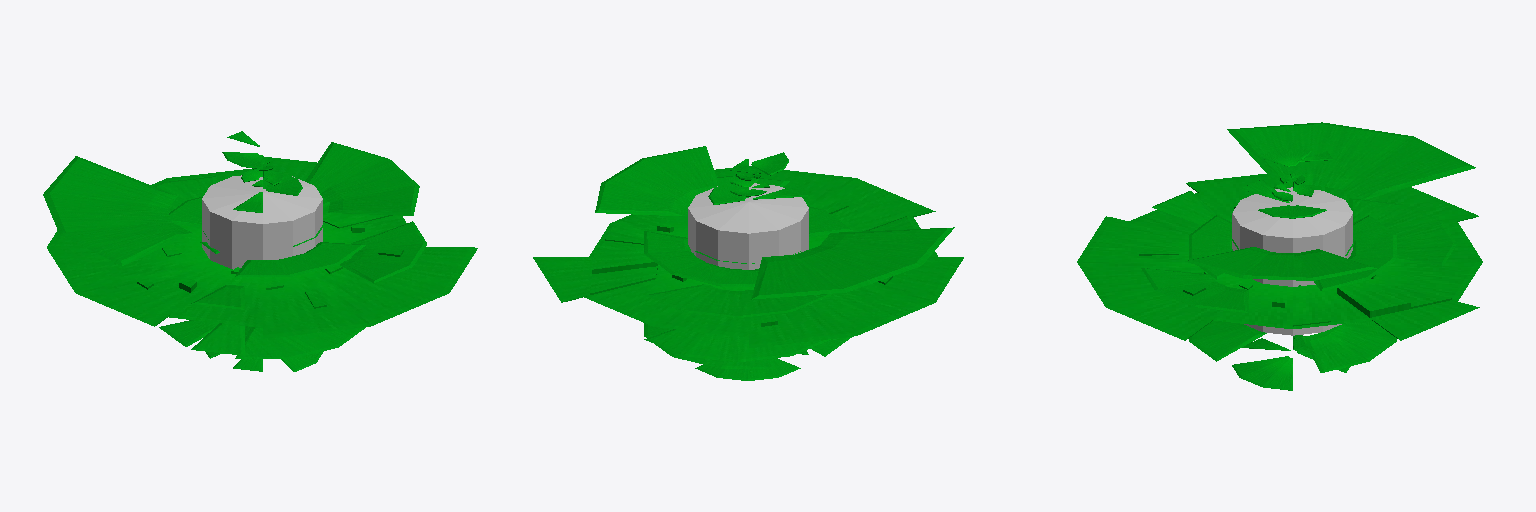
The picture shows the model from 3 angles: view 1: azimuth 30°, elevation 25°; view 2: azimuth 150°, elevation 25°; view 3: azimuth 270°, elevation 25°; orthographic projection.
Parts seen in each view (by area): view 1: WebWeave, WebWeaveCollisionBox; view 2: WebWeave, WebWeaveCollisionBox; view 3: WebWeave, WebWeaveCollisionBox.
Boxes of the visible parts, box(x1,y1,x2,y2) form: WebWeave: box(43, 131, 477, 371); WebWeaveCollisionBox: box(202, 175, 322, 269); WebWeave: box(533, 146, 963, 380); WebWeaveCollisionBox: box(688, 183, 808, 269); WebWeave: box(1077, 122, 1482, 390); WebWeaveCollisionBox: box(1232, 187, 1352, 335).
Bounding box in the file's own units: 15036 × 8467 × 15116.
3 materials, 1 textured.